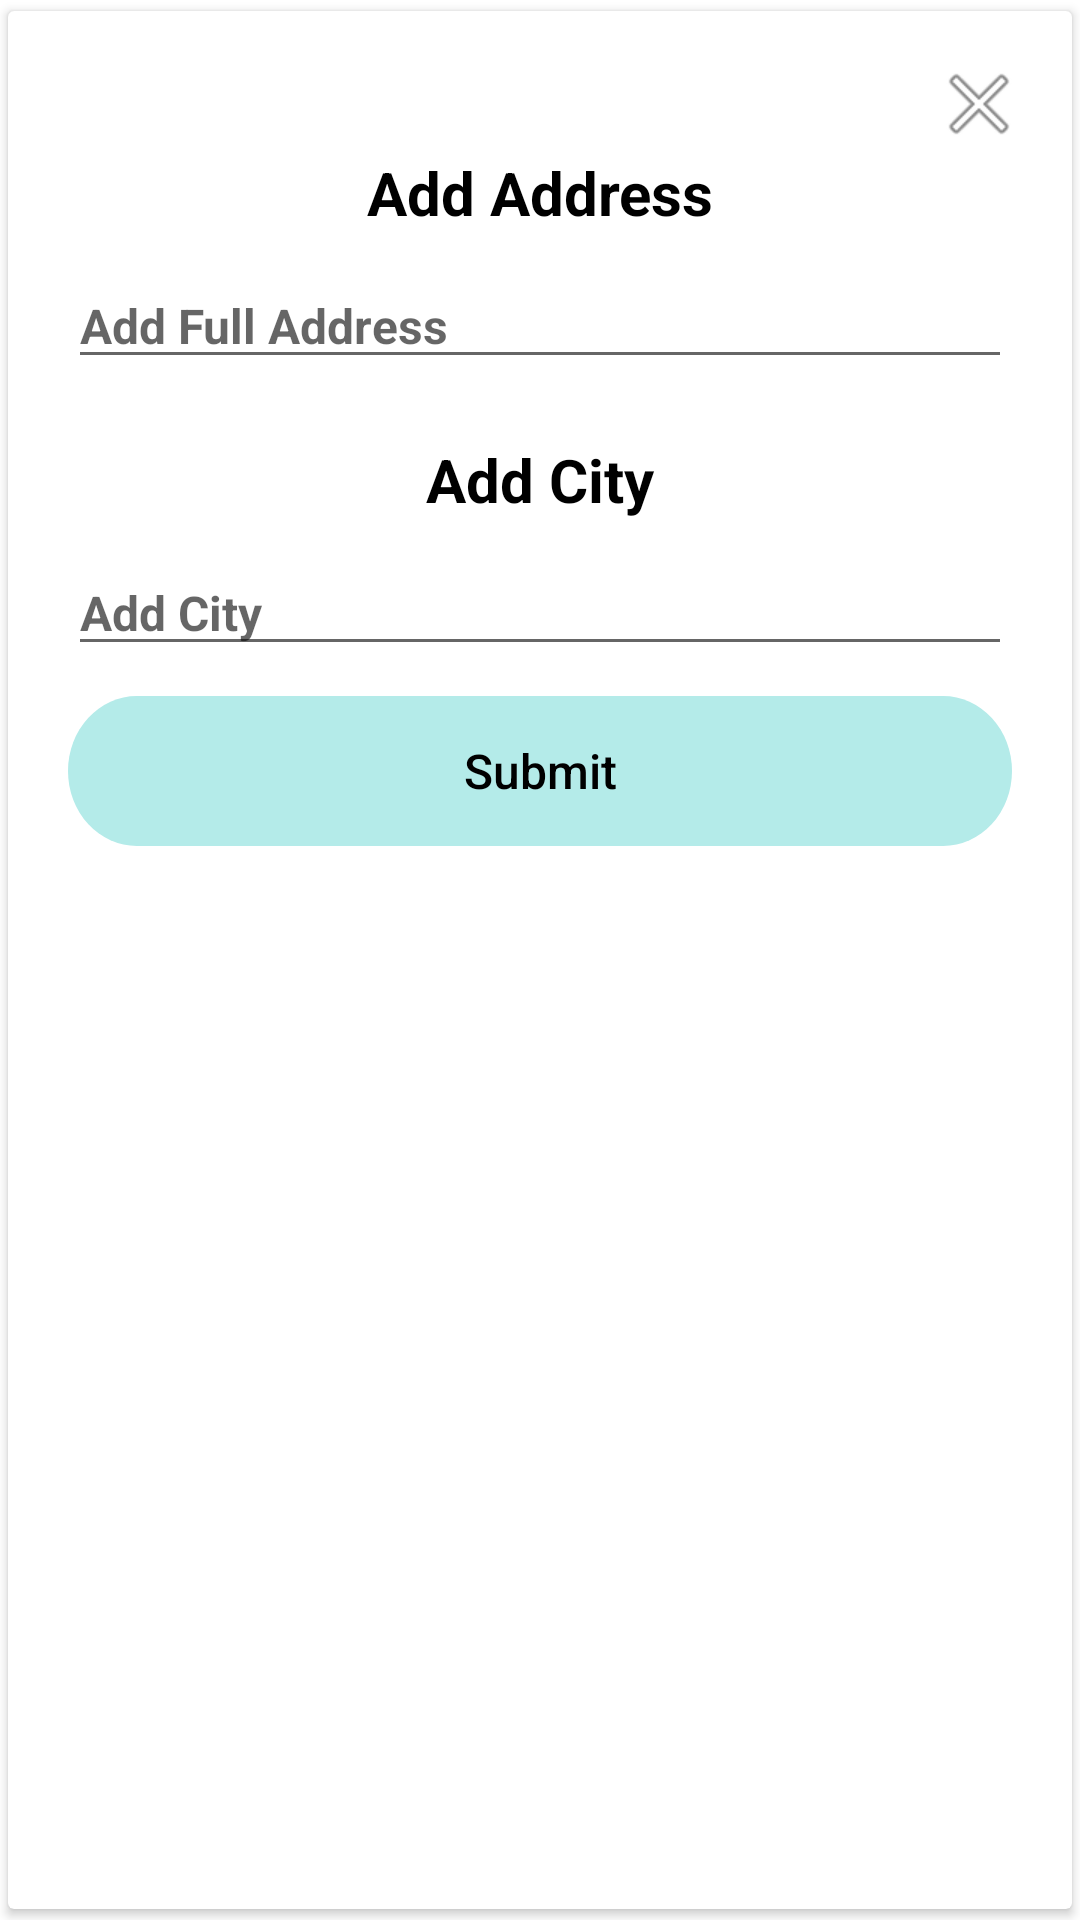

Where to tap for icons on this 1080×1920 app screen, as (x=x, y=y):
close clear cancel: (x=979, y=104)
